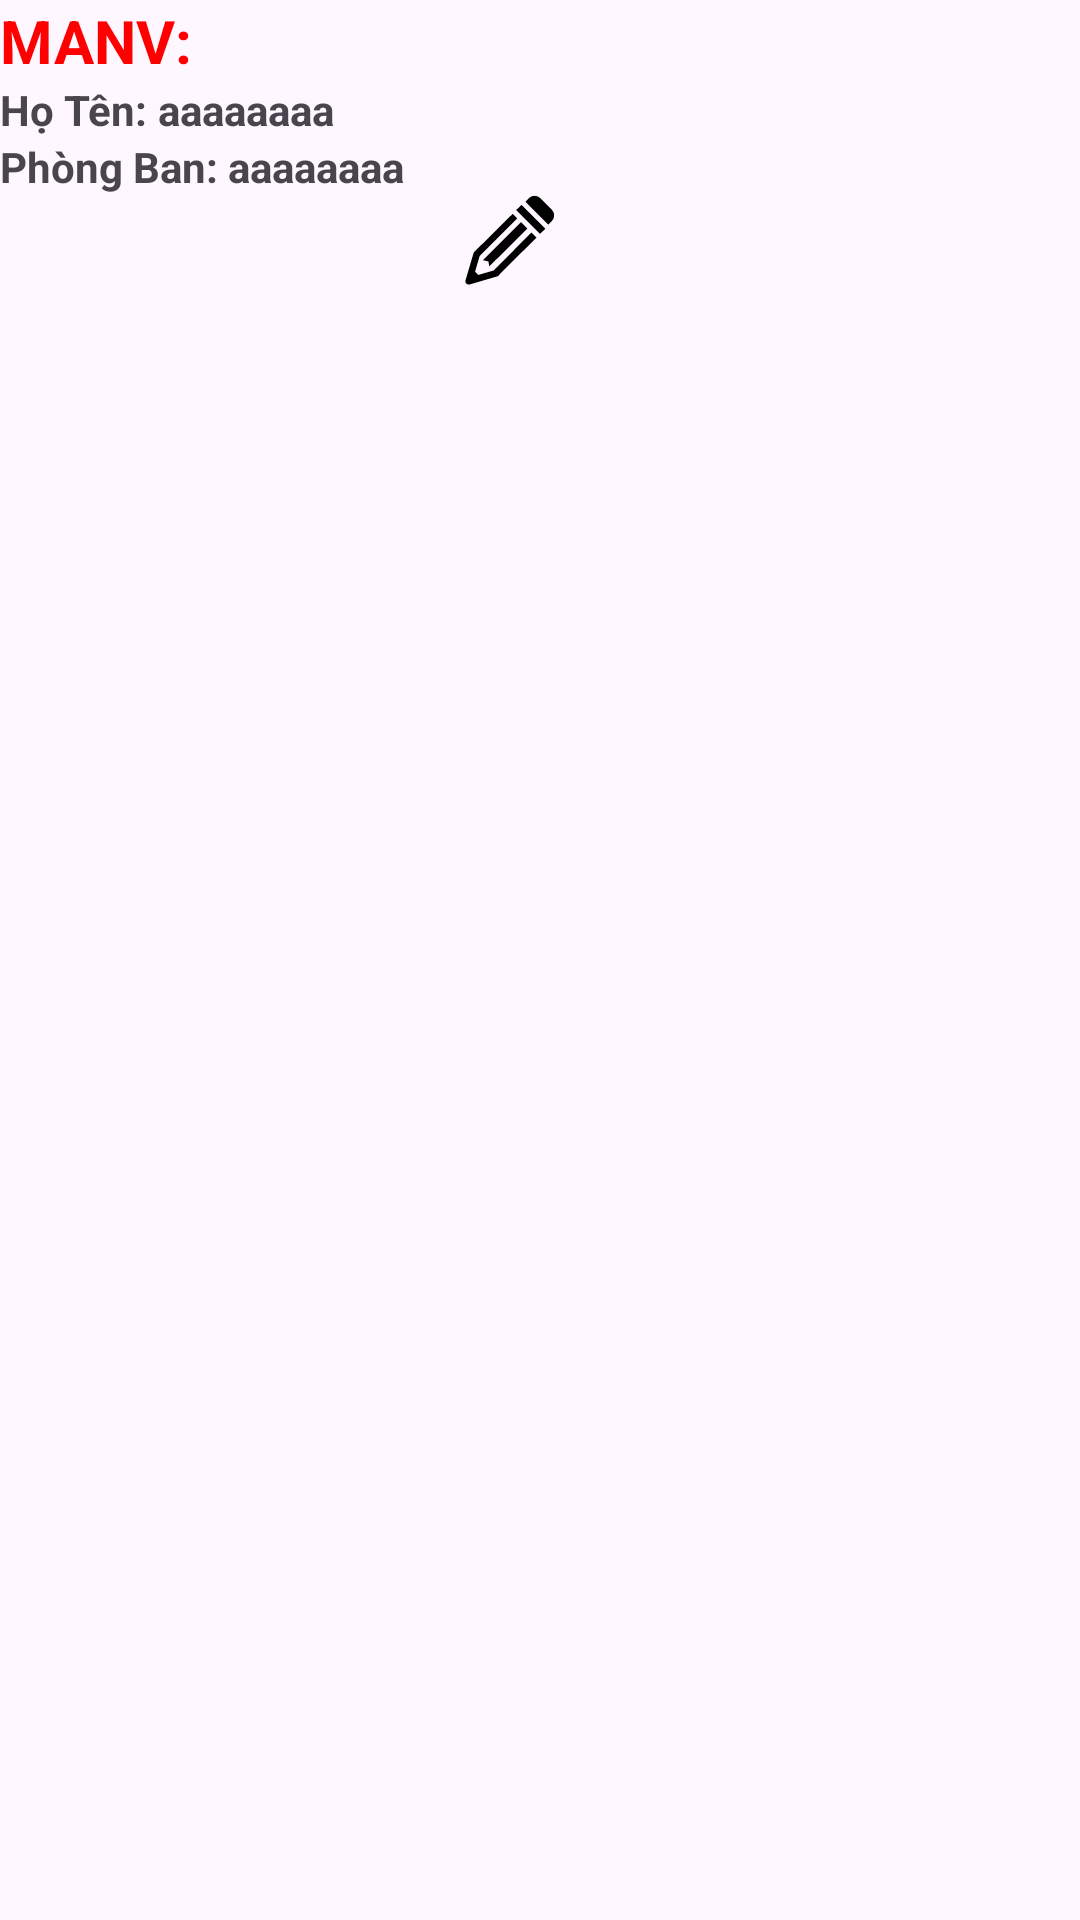

Screen size 1080px x 1920px. Icon name, then its center in pixels as (x=x, y=y):
edit: (x=509, y=240)
